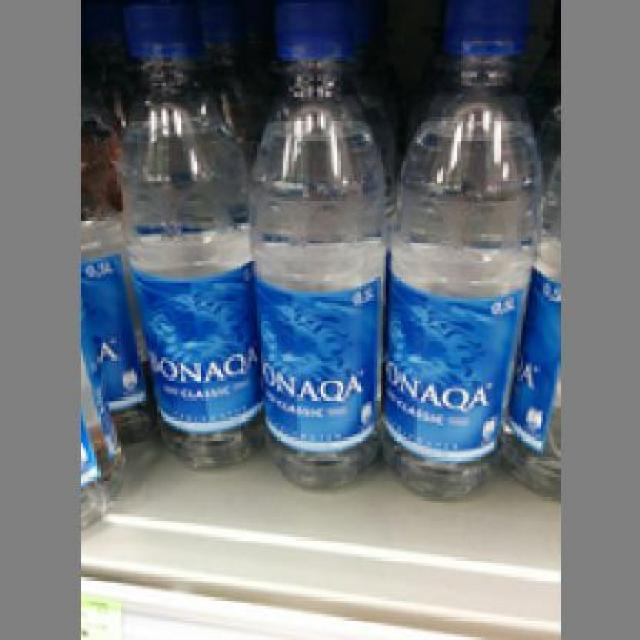Water: (383, 0, 543, 497), (107, 0, 255, 472), (246, 0, 383, 489)
